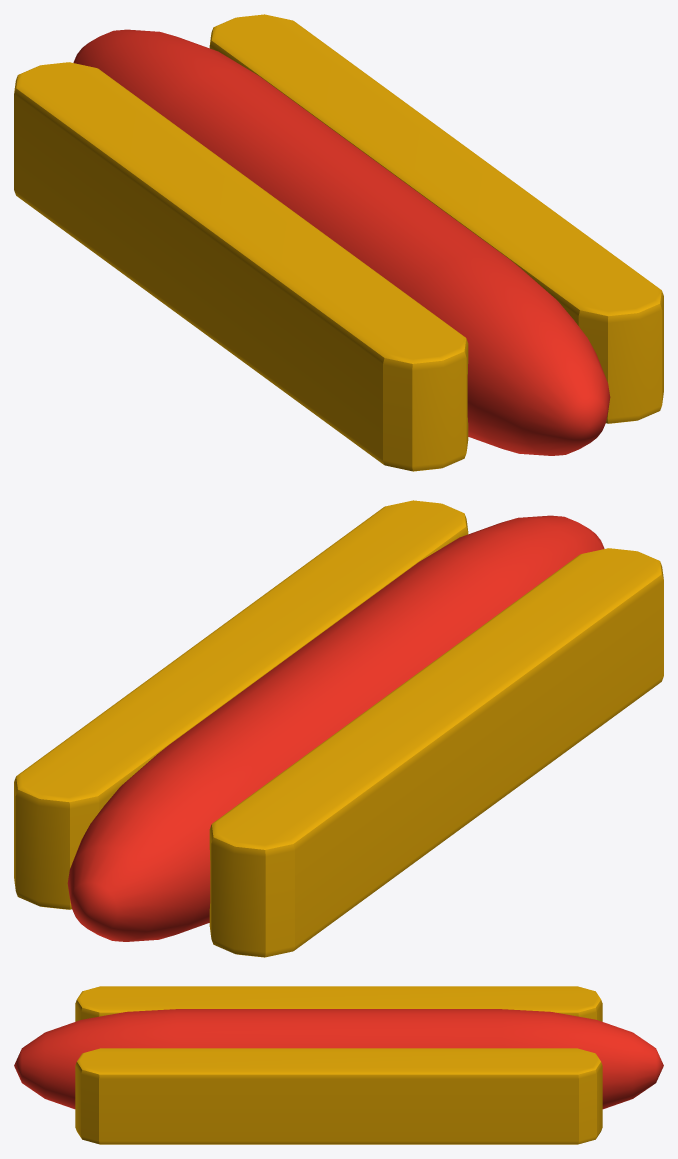
Rendered from hotdog.fbx.
3 views of the same model, one above another, from view 1: azimuth 30°, elevation 25°; view 2: azimuth 150°, elevation 25°; view 3: azimuth 270°, elevation 25° (orthographic). The views are drawn at different scales.
Parts seen in each view (by area): view 1: pCube4, pCylinder1, pCube2; view 2: pCube4, pCylinder1, pCube2; view 3: pCube2, pCylinder1, pCube4.
Part boxes in pixels (x1=…): pCube4: x1=14, y1=62, x2=468, y2=471; pCylinder1: x1=73, y1=29, x2=610, y2=455; pCube2: x1=209, y1=14, x2=663, y2=423; pCube4: x1=209, y1=548, x2=663, y2=957; pCylinder1: x1=67, y1=515, x2=604, y2=941; pCube2: x1=14, y1=500, x2=468, y2=909; pCube2: x1=75, y1=1048, x2=602, y2=1144; pCylinder1: x1=14, y1=1009, x2=663, y2=1109; pCube4: x1=75, y1=986, x2=602, y2=1021.
Size of the model in its own units: 0.2741 by 0.1481 by 0.8442.
